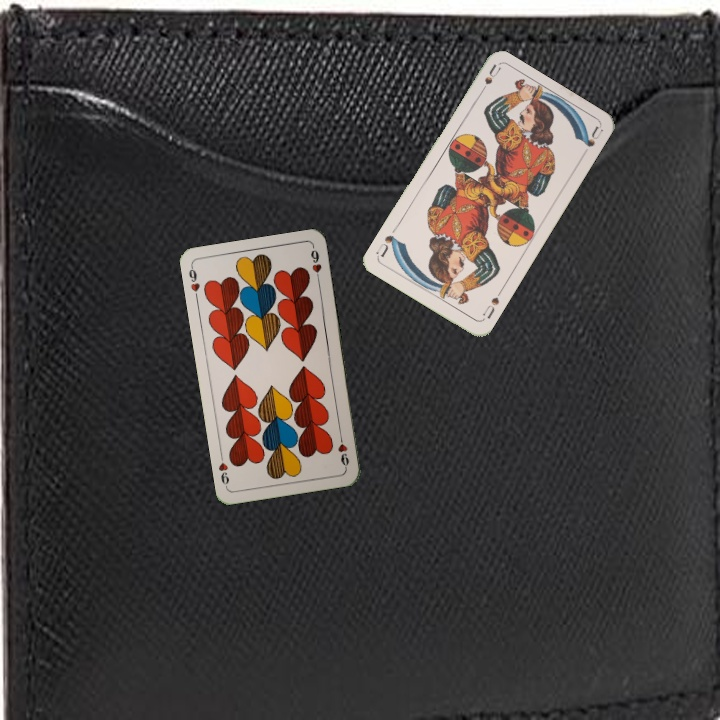H9: (185, 262, 202, 303), (334, 430, 351, 470)
SU: (474, 61, 503, 99), (479, 286, 504, 322)
